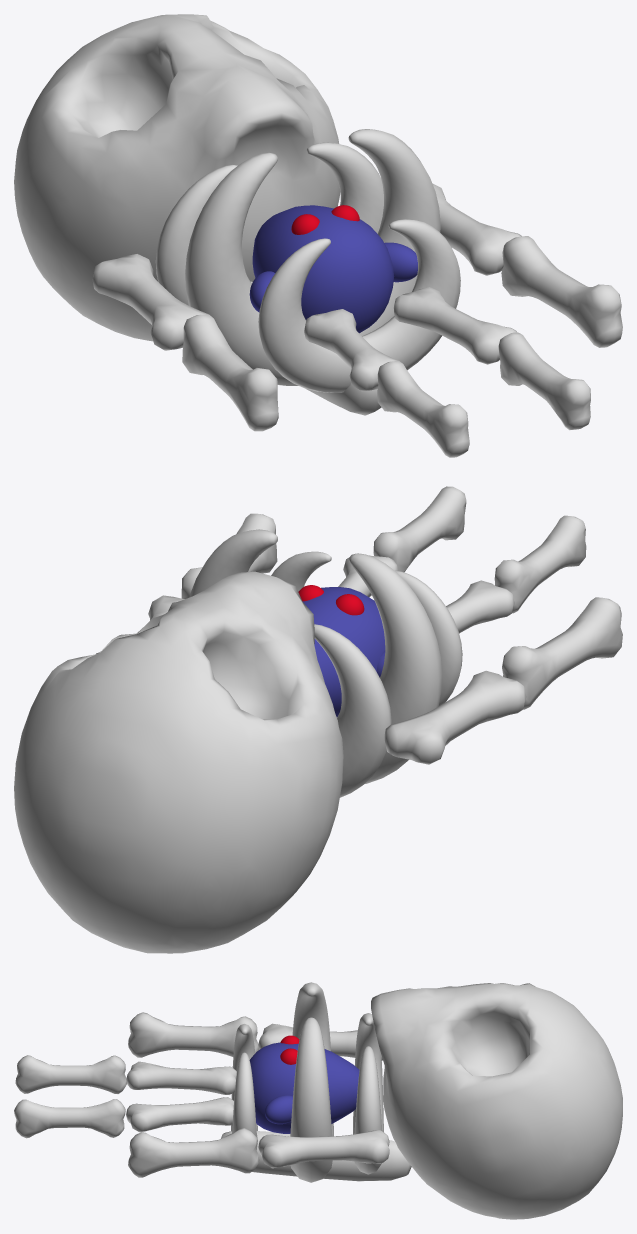
The model's file is Skeleton.fbx.
The picture shows the model from 3 angles, top to bottom: view 1: azimuth 30°, elevation 25°; view 2: azimuth 150°, elevation 25°; view 3: azimuth 270°, elevation 25°; orthographic projection. The views are drawn at different scales.
Parts seen in each view (by area): view 1: Skull.002; view 2: Skull.002; view 3: Skull.002.
Part boxes in pixels (box(x1,y1,x2,y2)): Skull.002: box(14, 14, 622, 457); Skull.002: box(14, 486, 622, 953); Skull.002: box(14, 982, 622, 1219).
Size of the model in its own units: 0.7505 by 0.5961 by 1.48.
